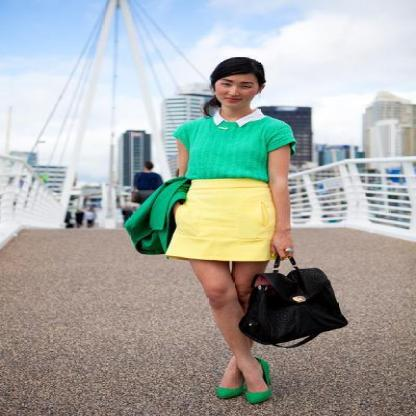bag: (231, 266, 347, 348)
jacket: (123, 177, 193, 254)
shirt: (172, 106, 292, 183)
shoe: (218, 358, 290, 404)
skirt: (166, 179, 274, 264)
